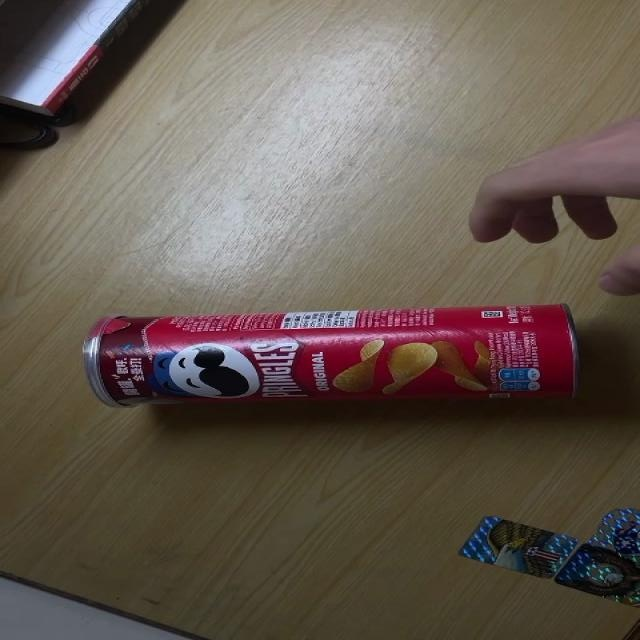Pringles: (82, 302, 578, 409)
